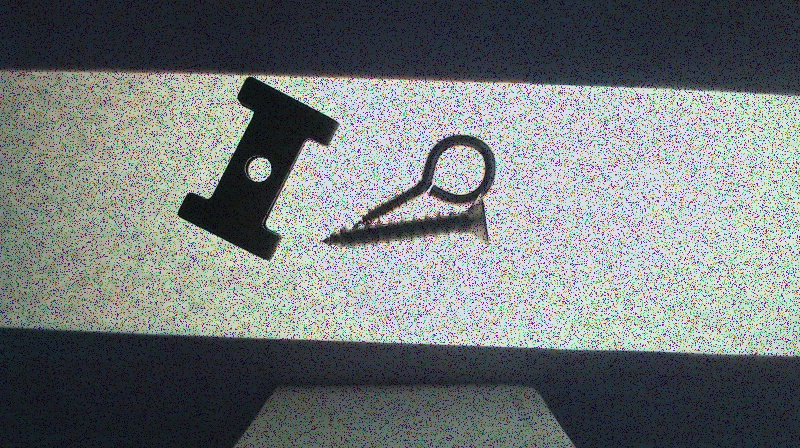O001: (355, 133, 496, 224)
O002: (177, 77, 339, 260)
S001: (320, 193, 489, 248)
